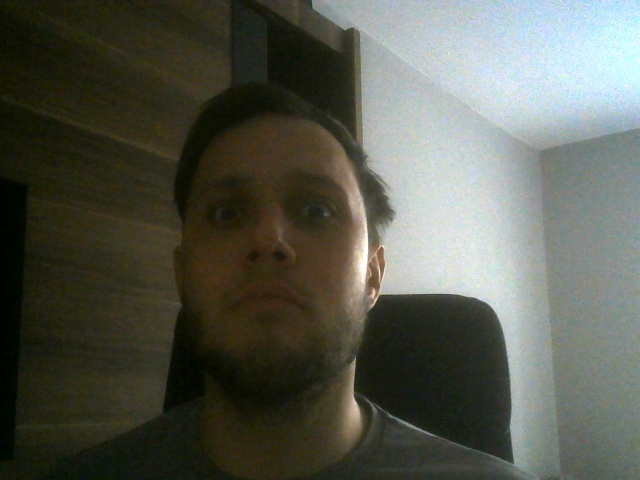surprised: (169, 86, 384, 395)
